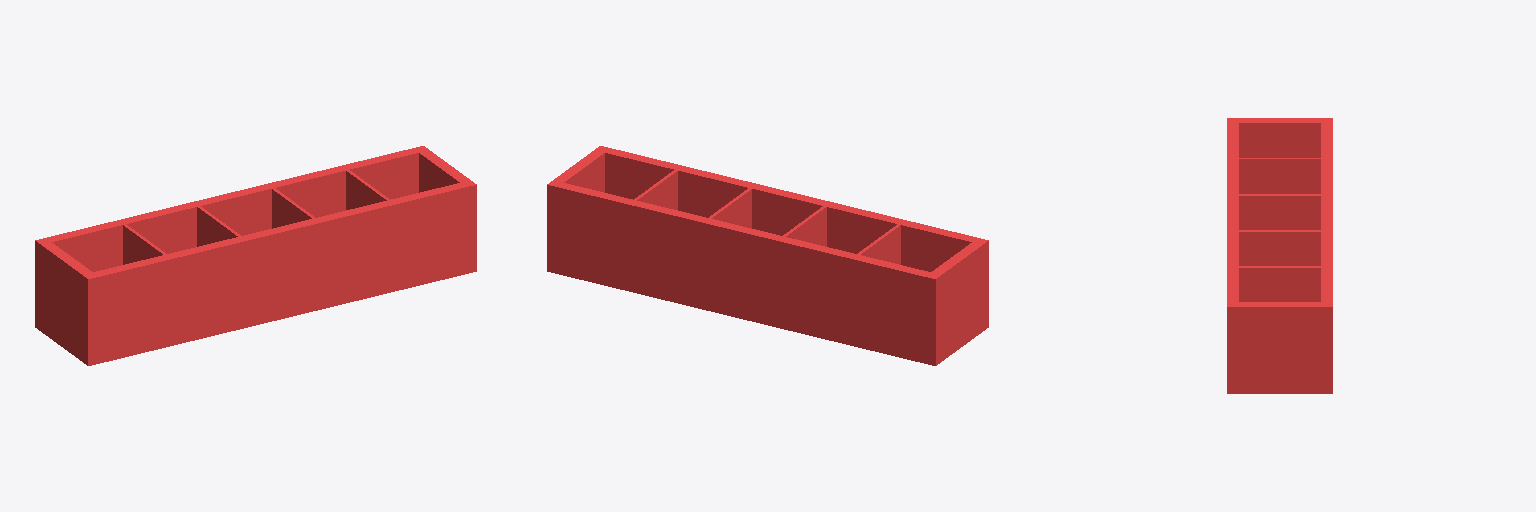
File: cat15_shelf.obj
The picture shows the model from 3 angles: view 1: azimuth 30°, elevation 25°; view 2: azimuth 150°, elevation 25°; view 3: azimuth 270°, elevation 25°; orthographic projection.
Visible parts, largest first — view 1: Bench, Bench 2, End, End 2, End#1 2, End#1 4, End#1, End#1 3; view 2: Bench 2, Bench, End, End 2, End#1 2, End#1 4, End#1, End#1 3; view 3: End 2, End, End#1, End#1 2, End#1 3, End#1 4, Bench, Bench 2.
Part boxes in pixels (bbox=[...]): Bench: bbox=[93, 183, 465, 363]; Bench 2: bbox=[47, 148, 418, 271]; End: bbox=[35, 238, 98, 365]; End 2: bbox=[413, 146, 476, 273]; End#1 2: bbox=[197, 206, 240, 246]; End#1 4: bbox=[346, 170, 389, 209]; End#1: bbox=[123, 224, 165, 264]; End#1 3: bbox=[272, 188, 314, 228]; Bench 2: bbox=[558, 183, 930, 363]; Bench: bbox=[605, 148, 976, 271]; End: bbox=[925, 238, 988, 365]; End 2: bbox=[547, 146, 610, 273]; End#1 2: bbox=[783, 206, 826, 246]; End#1 4: bbox=[634, 170, 677, 209]; End#1: bbox=[858, 224, 900, 264]; End#1 3: bbox=[709, 188, 751, 228]; End 2: bbox=[1227, 302, 1332, 393]; End: bbox=[1227, 118, 1332, 157]; End#1: bbox=[1239, 158, 1320, 193]; End#1 2: bbox=[1239, 194, 1320, 229]; End#1 3: bbox=[1239, 230, 1320, 265]; End#1 4: bbox=[1239, 266, 1320, 301]; Bench: bbox=[1227, 123, 1238, 301]; Bench 2: bbox=[1321, 123, 1332, 301].
Size of the model in its own units: 72.5 by 15.5 by 17.25.